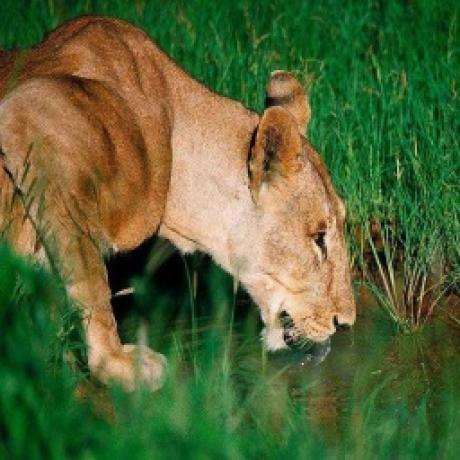Lion: (0, 8, 362, 388)
